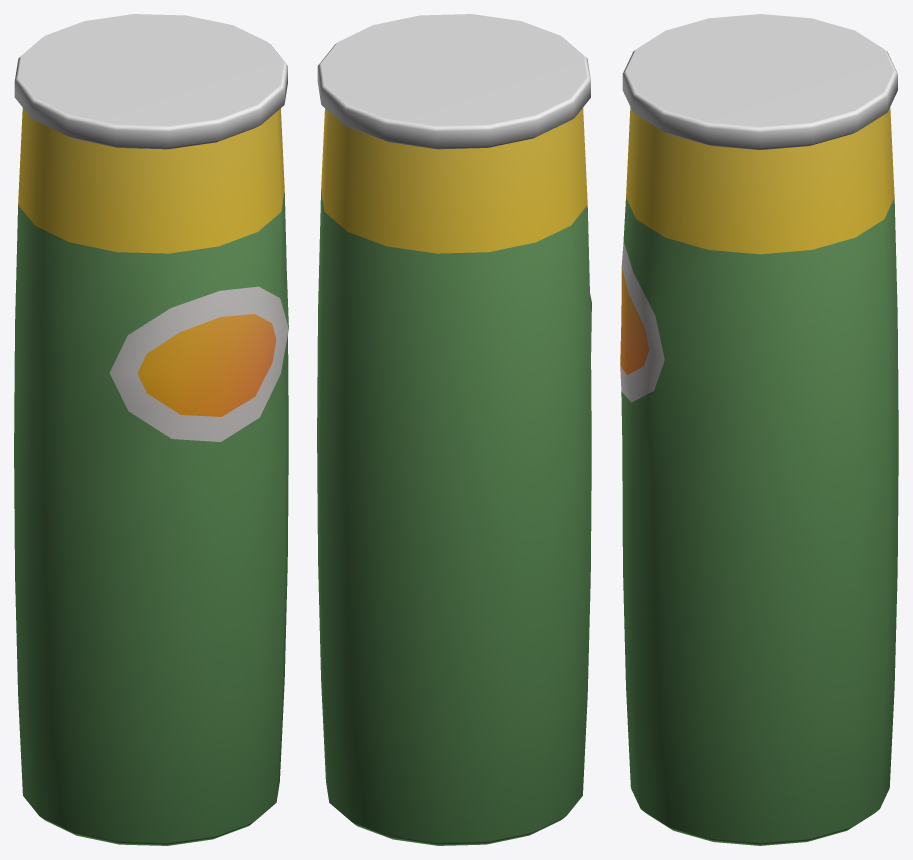
File: chips_001.fbx
3 renders of one model, left to right at view 1: azimuth 30°, elevation 25°; view 2: azimuth 150°, elevation 25°; view 3: azimuth 270°, elevation 25°, orthographic.
Visible parts, largest first — view 1: chips_001; view 2: chips_001; view 3: chips_001.
Part boxes in pixels (x1,y1,x2,y2): chips_001: (14,14,288,845); chips_001: (317,14,591,845); chips_001: (620,14,898,845).
Bounding box in the file's own units: 8.19 × 8.24 × 23.63.
